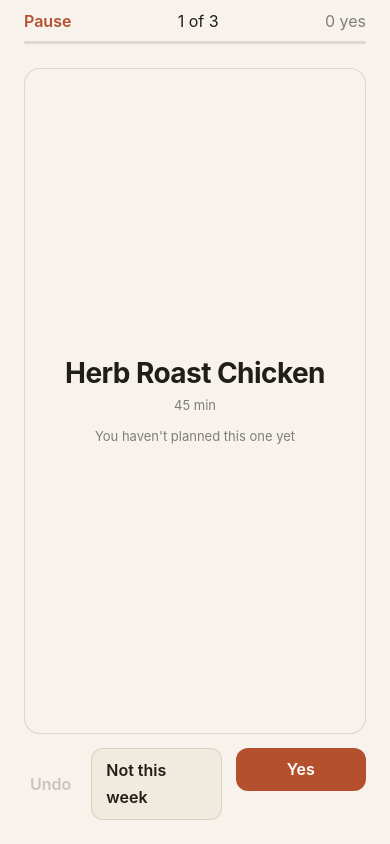
it: rolls back the optimistic state when recordSelectionDecision fails
Check: the text "Herb Roast Chicken" is shown, box [65,356,325,390]
Click the button with test id "swipe-deck-yes" at (301,770), box [236,748,366,791]
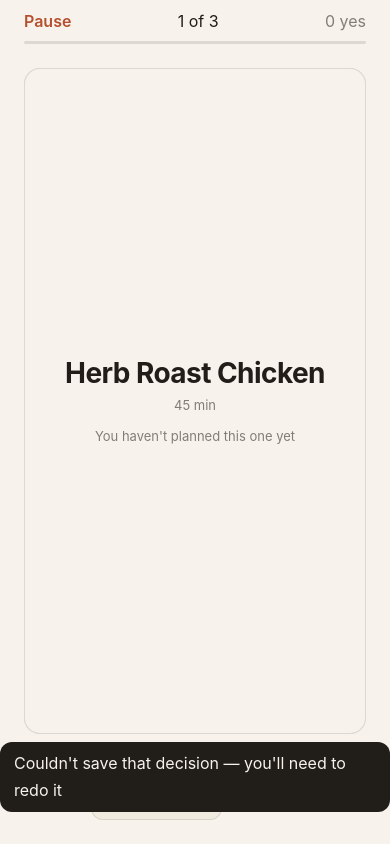
Check: the text "Herb Roast Chicken" is shown, box [65,356,325,390]
Check: the text "Couldn't save that decision — you'll need to redo it" is shown, box [14,750,376,804]
